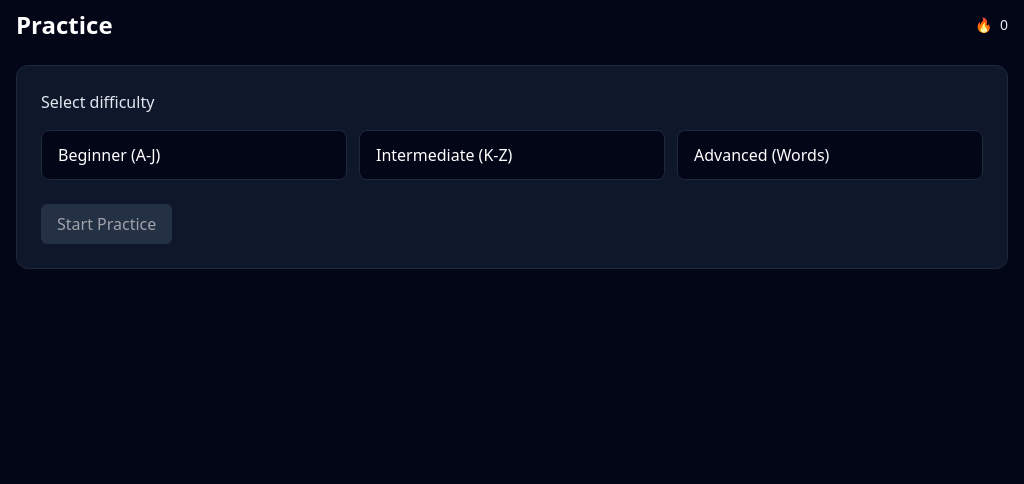
Practice page › TEST 11.7 — XP calculation in session (+15 XP)
Click the button "Beginner (A-J)" at (109, 155), box [41, 130, 347, 180]
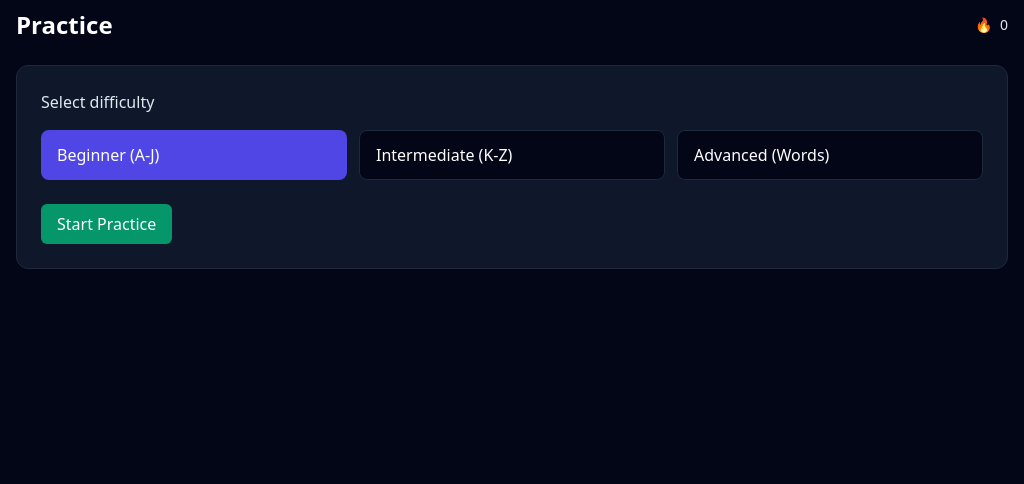
Click the button "Start Practice" at (107, 224), box [41, 204, 172, 244]
Wait 16666 ms
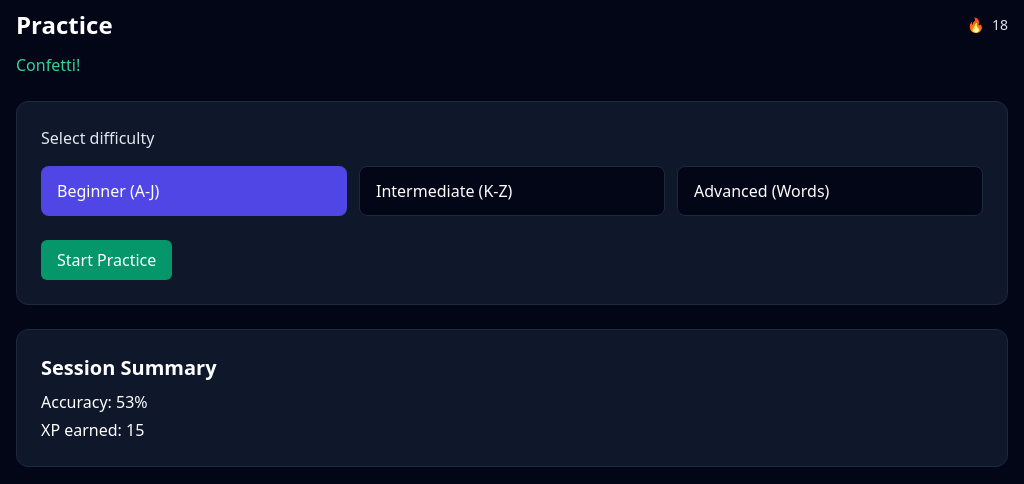
Expected: the text "XP earned: 15" is shown, [41, 419, 144, 441]
